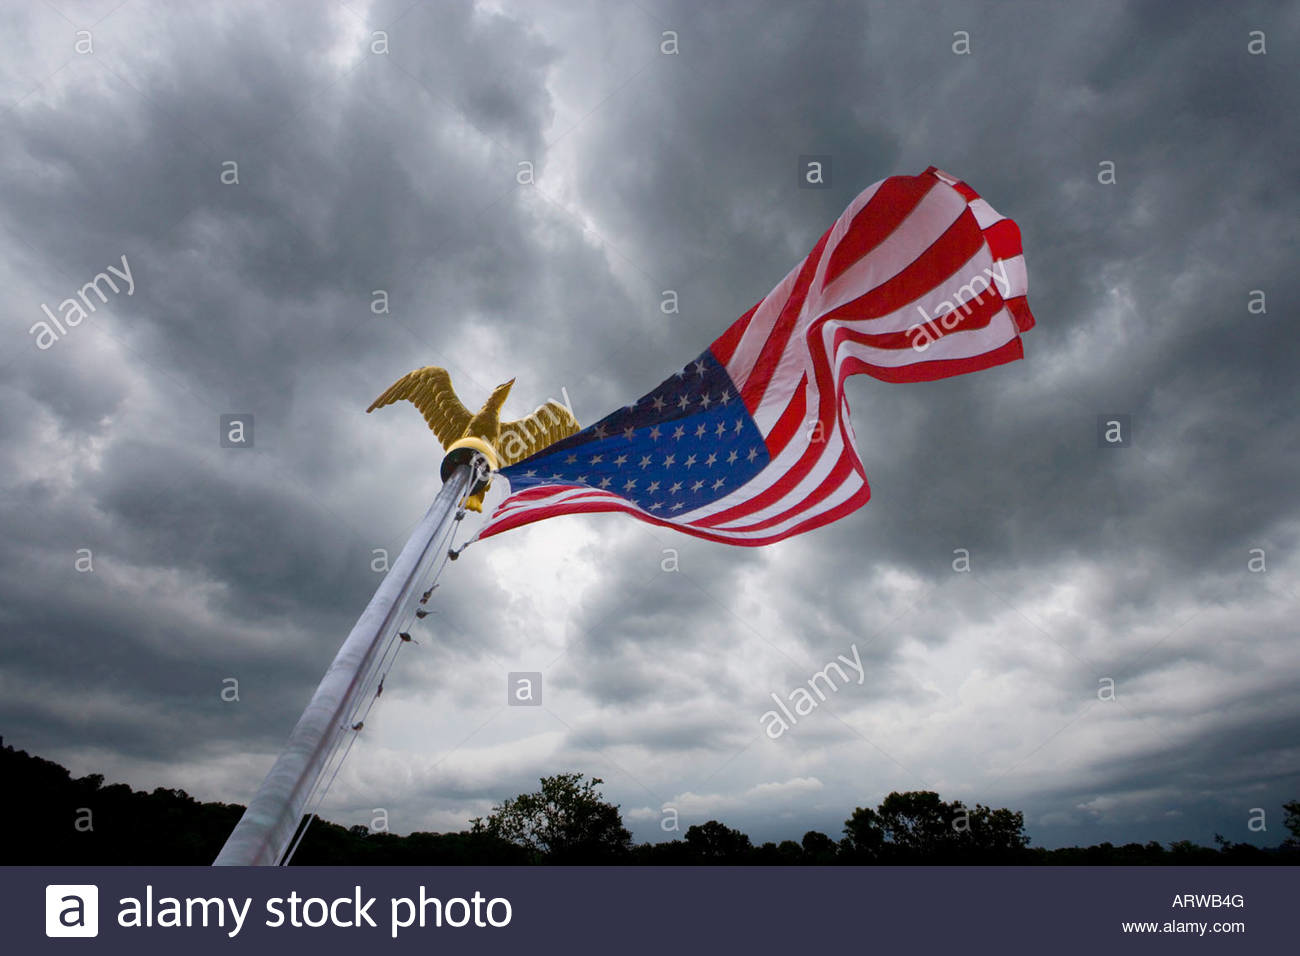America flag: (454, 166, 1036, 560)
